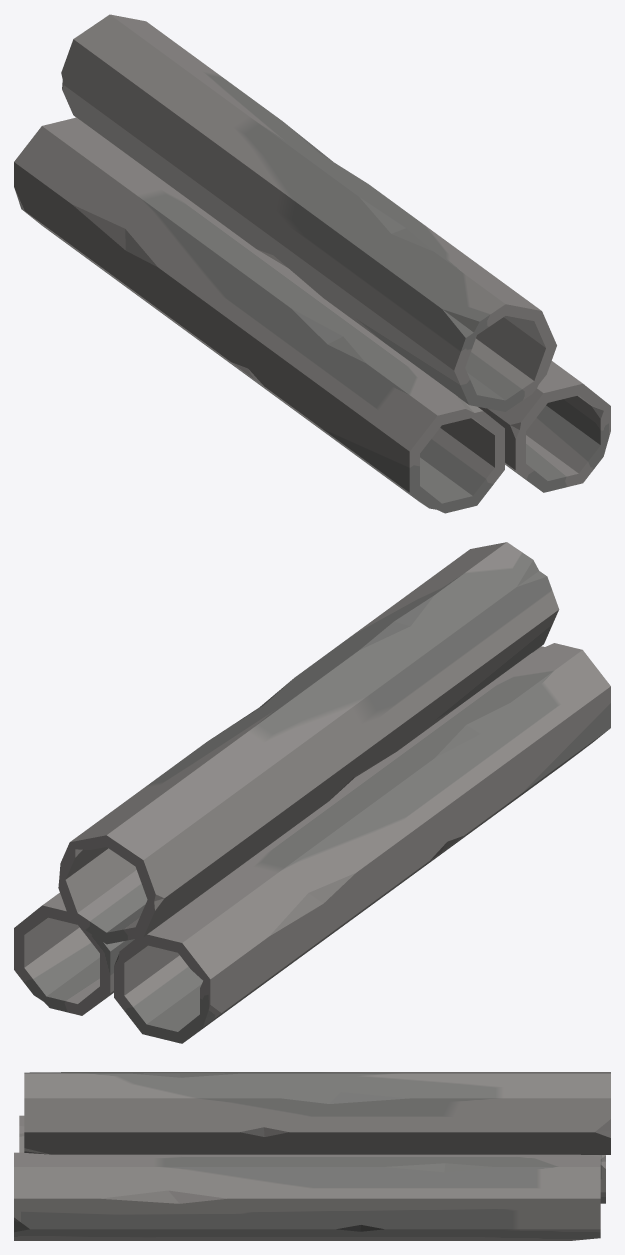
The model's file is SM_Prop_Pipe_Concrete_Stack_01.fbx.
3 renders of one model, top to bottom at view 1: azimuth 30°, elevation 25°; view 2: azimuth 150°, elevation 25°; view 3: azimuth 270°, elevation 25°, orthographic. The views are drawn at different scales.
Visible parts, largest first — view 1: SM_Prop_Pipe_Concrete_Stack_01; view 2: SM_Prop_Pipe_Concrete_Stack_01; view 3: SM_Prop_Pipe_Concrete_Stack_01.
Boxes of the visible parts, x1,y1,x2,y2 form: SM_Prop_Pipe_Concrete_Stack_01: (14, 14, 610, 513); SM_Prop_Pipe_Concrete_Stack_01: (14, 542, 610, 1043); SM_Prop_Pipe_Concrete_Stack_01: (14, 1072, 610, 1240).
Bounding box in the file's own units: 163 × 150 × 574.
